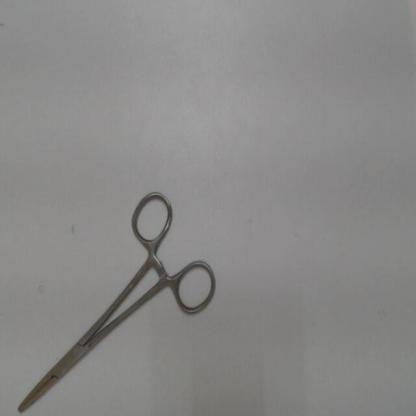Mayo Needle Holder: (8, 180, 228, 414)
